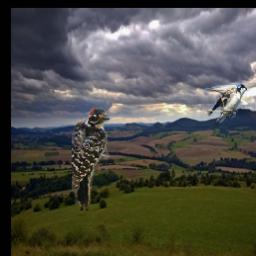Swallow: (205, 82, 248, 126)
Woodpecker: (72, 106, 110, 209)
